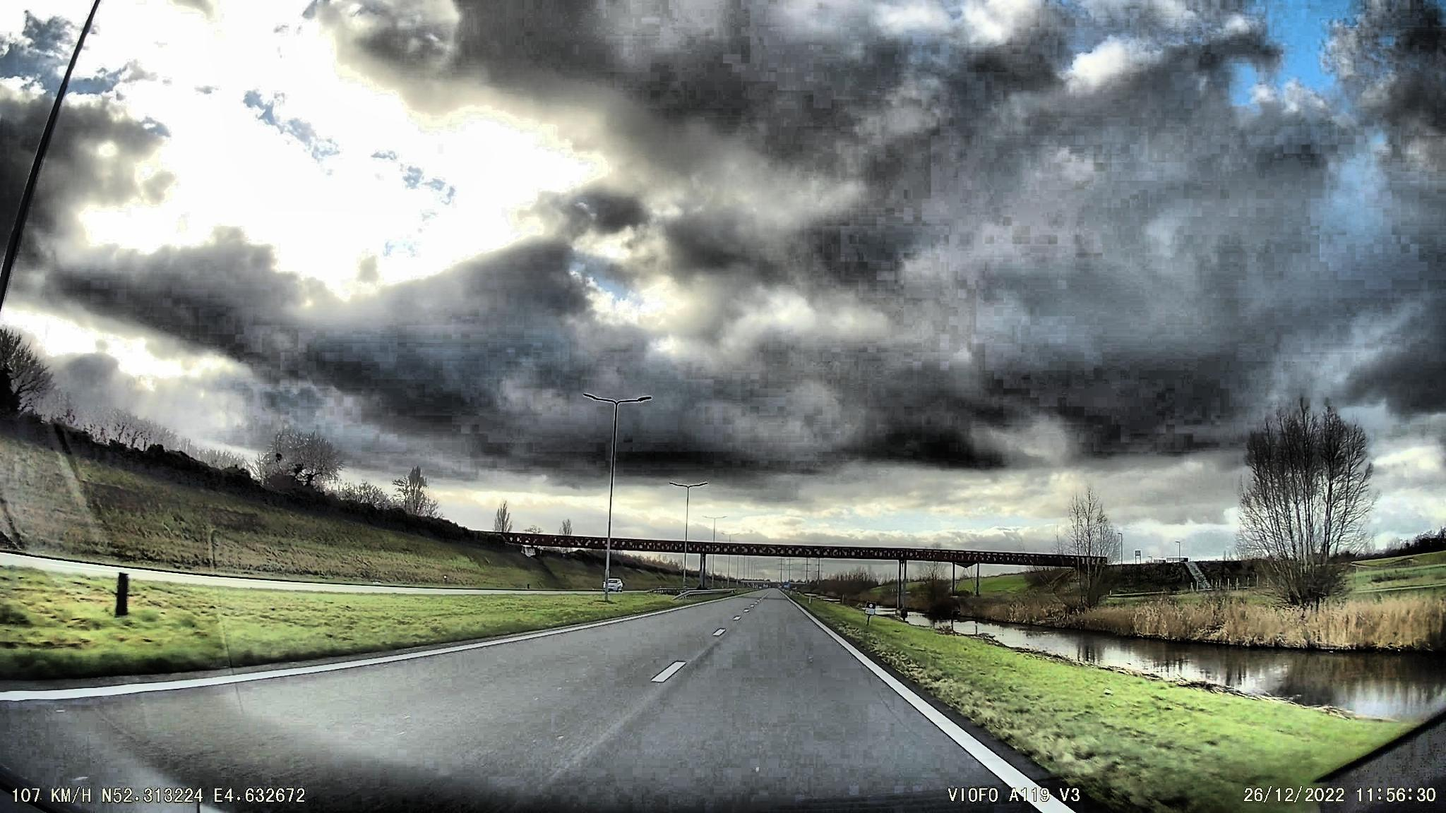Roads: (0, 592, 1092, 813)
